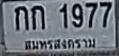1: (59, 2, 66, 28)
7: (99, 1, 111, 27), (85, 1, 97, 27)
9: (71, 2, 82, 27)
A01: (14, 5, 28, 30), (30, 5, 44, 29)
SKM: (20, 35, 100, 51)
